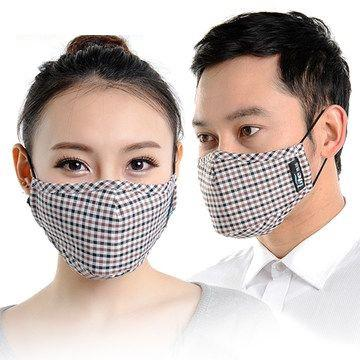OK: (32, 137, 173, 276), (197, 108, 329, 237)
